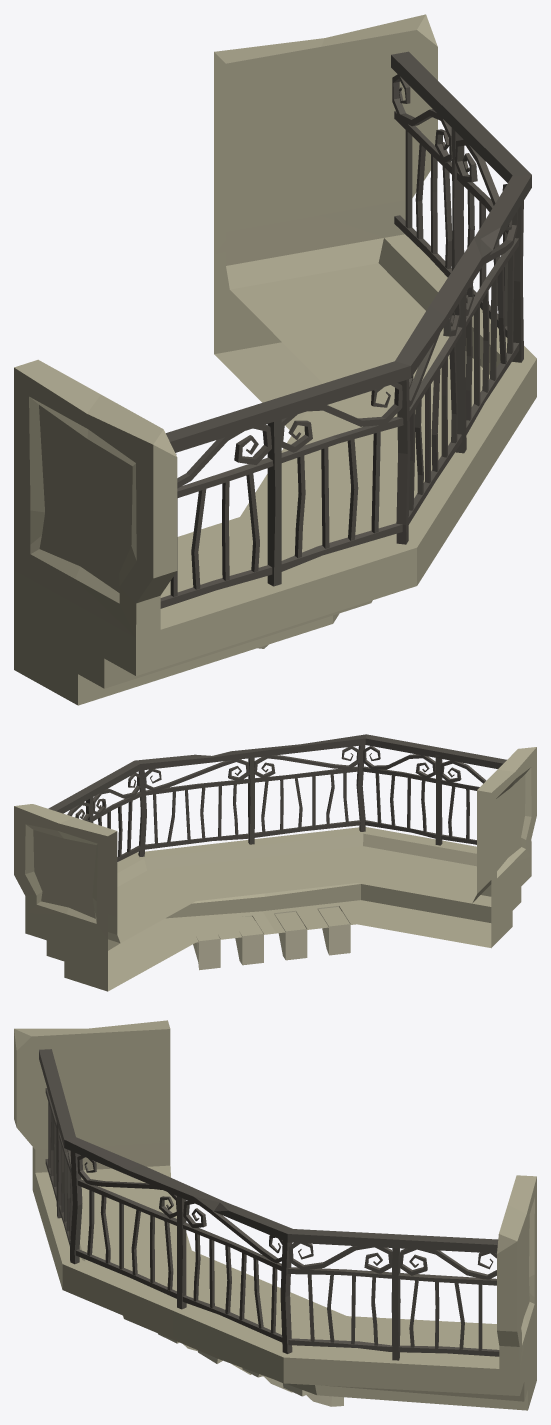
File: Balcony_3.fbx
The picture shows the model from 3 angles, top to bottom: view 1: azimuth 30°, elevation 25°; view 2: azimuth 150°, elevation 25°; view 3: azimuth 270°, elevation 25°; orthographic projection. The views are drawn at different scales.
Parts seen in each view (by area): view 1: Balcony_3; view 2: Balcony_3; view 3: Balcony_3.
Part boxes in pixels (x1,y1,x2,y2): Balcony_3: (14, 14, 536, 705); Balcony_3: (14, 734, 536, 991); Balcony_3: (14, 1020, 536, 1410).
Size of the model in its own units: 352 by 179 by 352.
